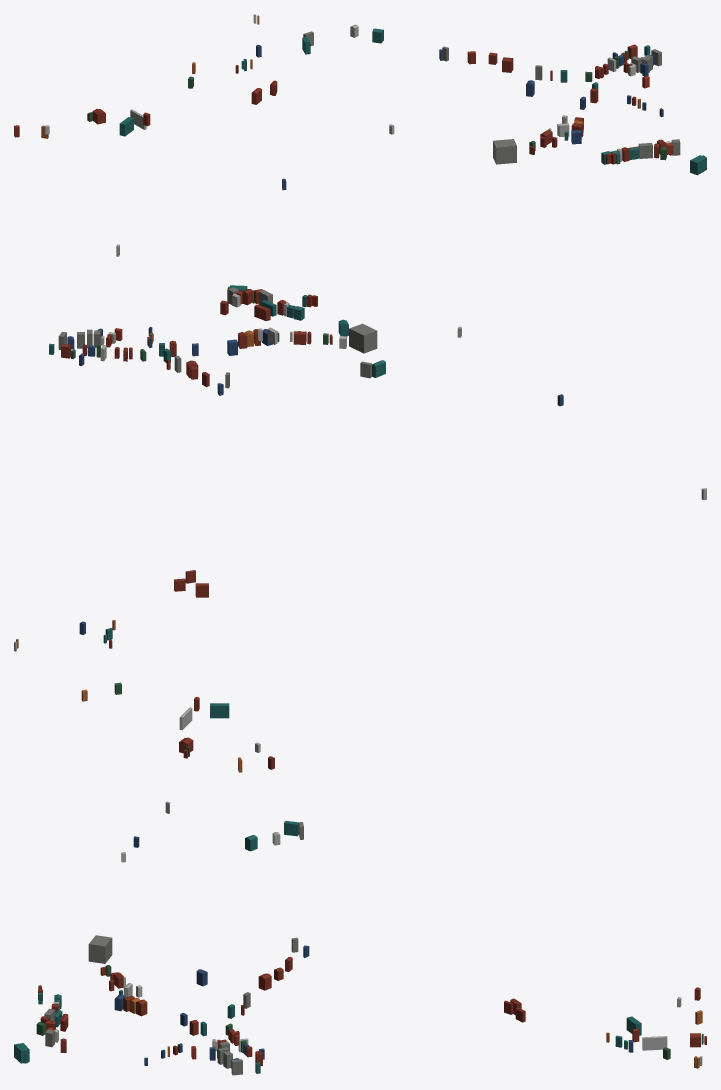
The model's file is near-15-27353-14871.789a9903.glb.
3 renders of one model, top to bottom at view 1: azimuth 30°, elevation 25°; view 2: azimuth 150°, elevation 25°; view 3: azimuth 270°, elevation 25°, orthographic. The views are drawn at different scales.
Size of the model in its own units: 1128 by 443 by 1130.
